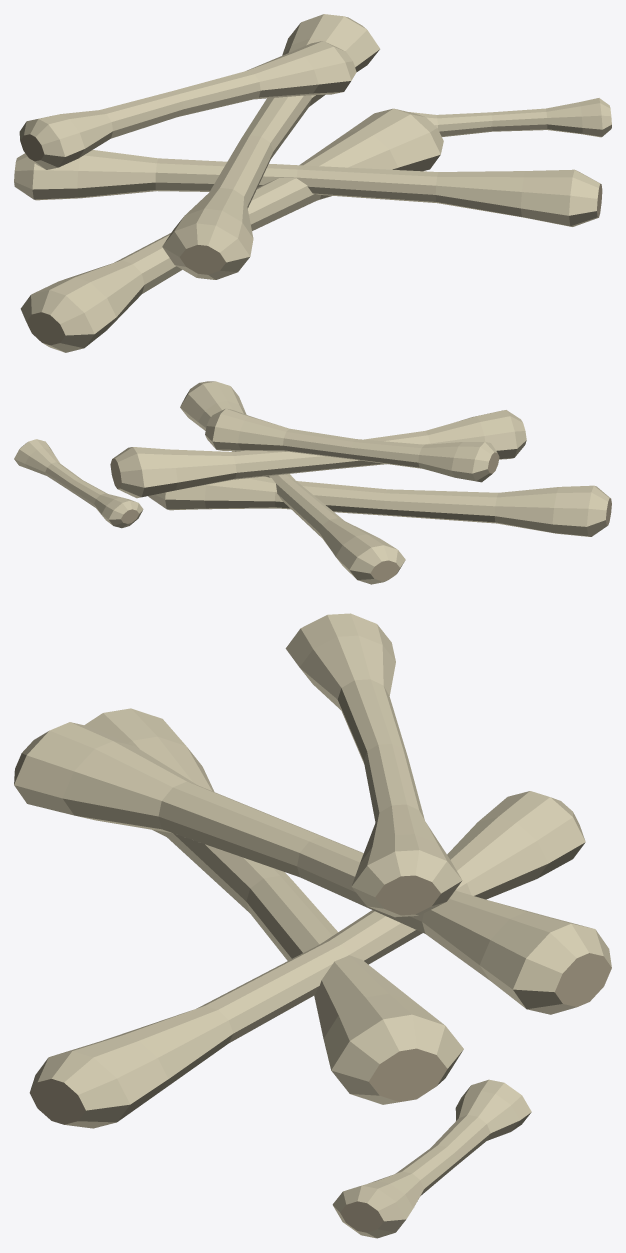
File: PROP_12_BonePile.glb
3 views of the same model, one above another, from view 1: azimuth 30°, elevation 25°; view 2: azimuth 150°, elevation 25°; view 3: azimuth 270°, elevation 25° (orthographic). The views are drawn at different scales.
Visible parts, largest first — view 1: PROP_12_BonePile; view 2: PROP_12_BonePile; view 3: PROP_12_BonePile.
Boxes of the visible parts, x1,y1,x2,y2 form: PROP_12_BonePile: [14, 14, 611, 352]; PROP_12_BonePile: [14, 381, 611, 584]; PROP_12_BonePile: [14, 613, 611, 1238].
Size of the model in its own units: 1.2 by 0.2802 by 0.6486.
